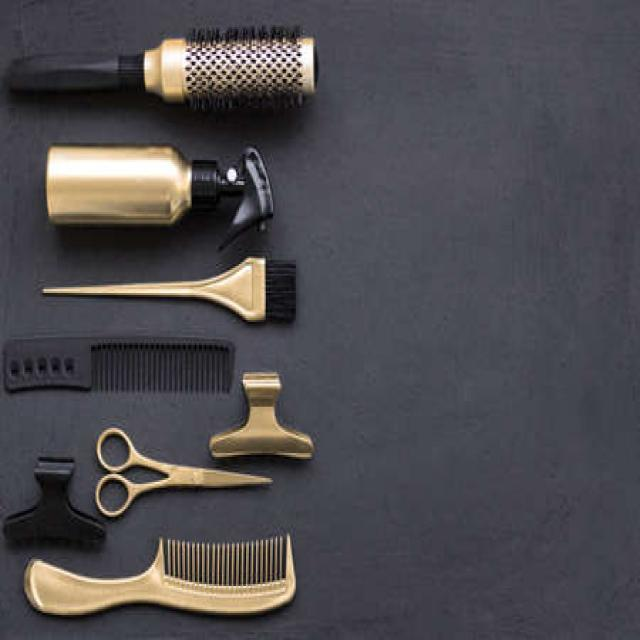tesoura: (86, 411, 283, 526)
